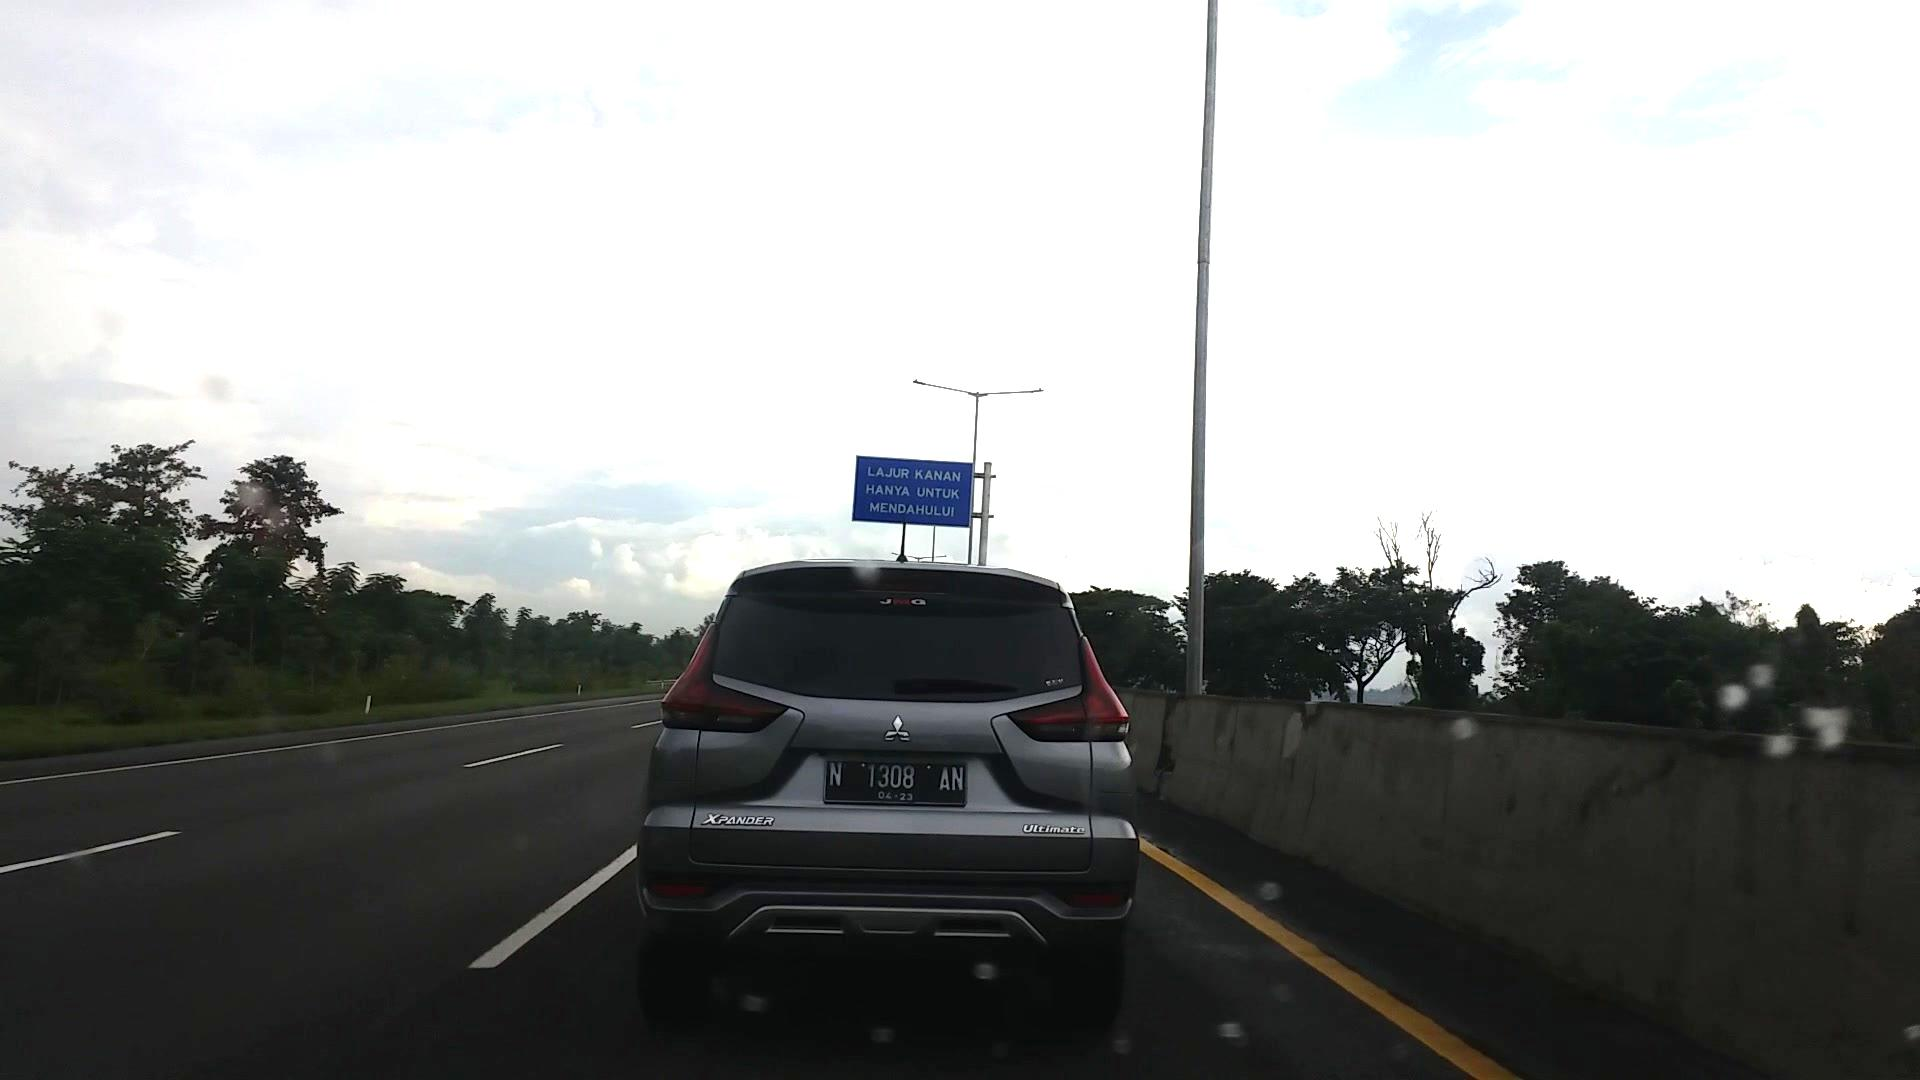plate_positive: (823, 758, 965, 808)
